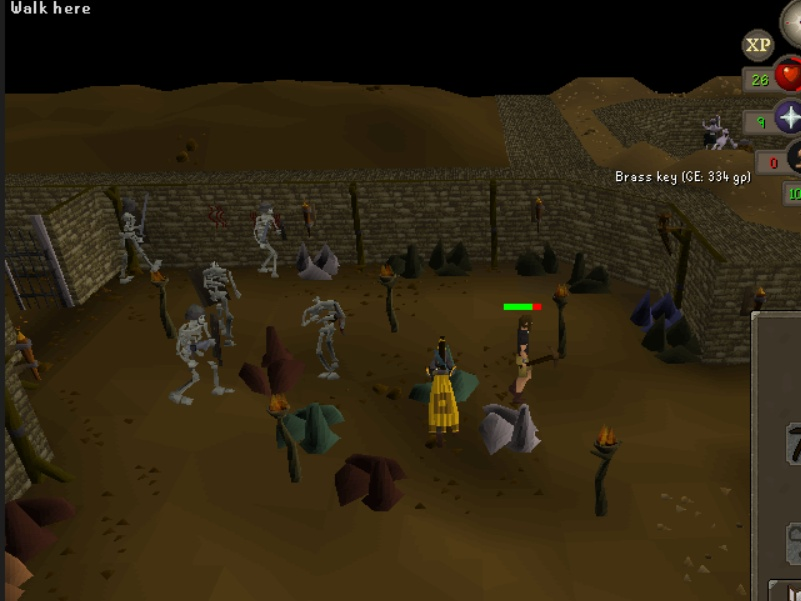adamant: (401, 337, 487, 412), (273, 397, 352, 467)
coal: (639, 313, 707, 369), (563, 248, 619, 296), (427, 237, 481, 280), (513, 238, 563, 283), (385, 239, 433, 280)
iron: (238, 320, 309, 398), (329, 449, 412, 514)
mithril: (628, 287, 690, 339)
silver: (466, 396, 549, 467)
tin: (289, 237, 346, 284)
